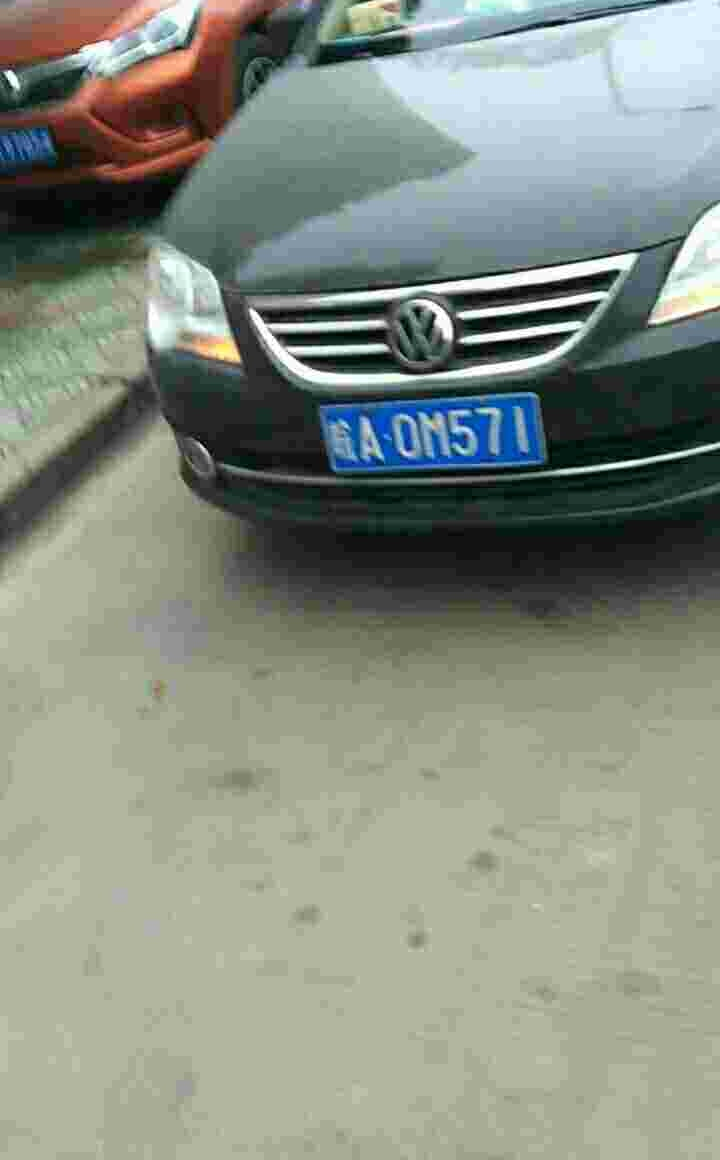license_plate: (329, 395, 544, 473)
